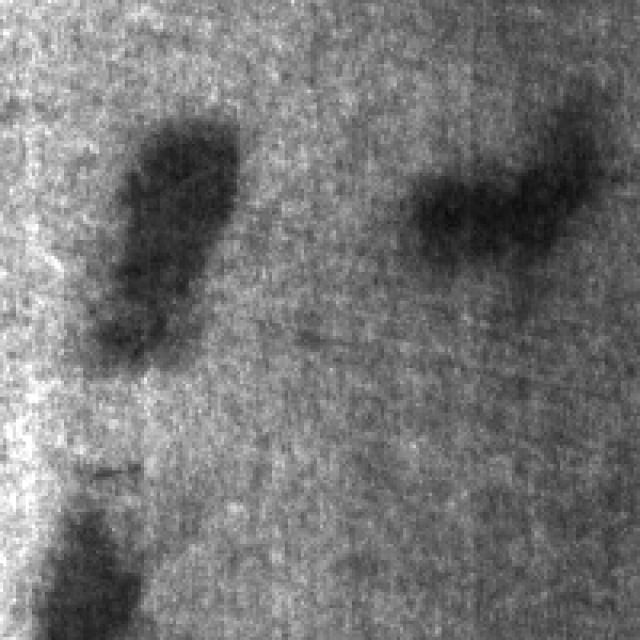patches: (96, 99, 256, 368), (413, 102, 608, 256), (38, 486, 150, 634)
